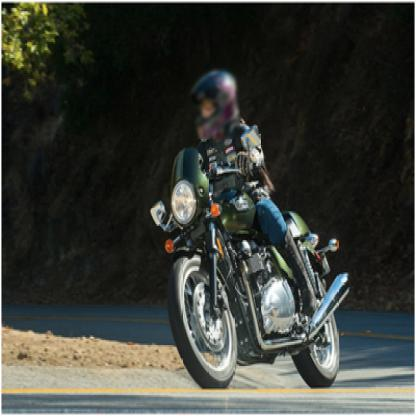Helmet: (187, 67, 241, 143)
